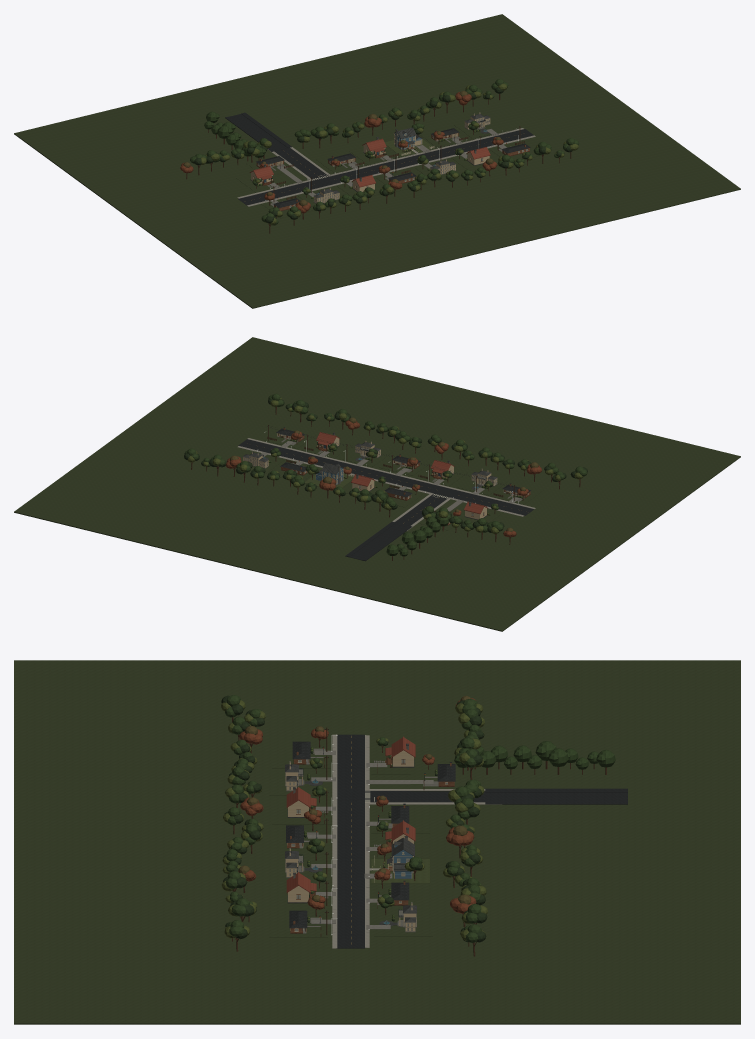
Rendered from westbridge.glb.
3 renders of one model, top to bottom at view 1: azimuth 30°, elevation 25°; view 2: azimuth 150°, elevation 25°; view 3: azimuth 270°, elevation 25°, orthographic. The views are drawn at different scales.
Parts seen in each view (by area): view 1: Oak_Crescent · Dry lawn, Oak_Crescent · Aggregate asphalt, Tree_Line · Garden foliage 0, South_Lots · Dry lawn, Tree_Line · Garden foliage 1, Tree_Line · Garden foliage 2, North_Lots · Dry lawn, Oak_Crescent · Worn concrete, Tree_Line · props.001, Tree_Line · Garden foliage 3, North_Lots · Cream.001, Tree_Line · Weathered cedar; view 2: Oak_Crescent · Dry lawn, Oak_Crescent · Aggregate asphalt, Tree_Line · Garden foliage 0, North_Lots · Dry lawn, Tree_Line · Garden foliage 1, Tree_Line · Garden foliage 2, Oak_Crescent · Worn concrete, South_Lots · Dry lawn, Tree_Line · props.001, Tree_Line · Garden foliage 3, Tree_Line · Weathered cedar, North_Lots · Cream.001 (+1 smaller); view 3: Oak_Crescent · Dry lawn, Oak_Crescent · Aggregate asphalt, North_Lots · Dry lawn, Tree_Line · Garden foliage 0, South_Lots · Dry lawn, Tree_Line · Garden foliage 1, Tree_Line · Garden foliage 2, Oak_Crescent · Worn concrete, Tree_Line · props.001, Tree_Line · Garden foliage 3, South_Lots · RoofShingle.001, North_Lots · RoofShingle.001 (+8 smaller).
Boxes of the visible parts, x1,y1,x2,y2 form: Oak_Crescent · Dry lawn: (14, 14, 740, 308); Oak_Crescent · Aggregate asphalt: (225, 112, 533, 205); Tree_Line · Garden foliage 0: (190, 79, 578, 225); South_Lots · Dry lawn: (236, 119, 505, 192); Tree_Line · Garden foliage 1: (194, 83, 578, 224); Tree_Line · Garden foliage 2: (194, 87, 572, 223); North_Lots · Dry lawn: (261, 141, 541, 218); Oak_Crescent · Worn concrete: (237, 128, 535, 206); Tree_Line · props.001: (204, 111, 265, 161); Tree_Line · Garden foliage 3: (180, 92, 497, 213); North_Lots · Cream.001: (276, 149, 527, 207); Tree_Line · Weathered cedar: (186, 94, 571, 233); Oak_Crescent · Dry lawn: (14, 337, 740, 631); Oak_Crescent · Aggregate asphalt: (238, 439, 533, 561); Tree_Line · Garden foliage 0: (184, 393, 587, 532); North_Lots · Dry lawn: (264, 426, 542, 504); Tree_Line · Garden foliage 1: (187, 397, 583, 533); Tree_Line · Garden foliage 2: (184, 399, 587, 532); Oak_Crescent · Worn concrete: (237, 438, 535, 530); South_Lots · Dry lawn: (241, 452, 502, 530); Tree_Line · props.001: (386, 511, 449, 560); Tree_Line · Garden foliage 3: (226, 420, 541, 536); Tree_Line · Weathered cedar: (191, 406, 580, 544); North_Lots · Cream.001: (277, 433, 528, 497); Oak_Crescent · Dry lawn: (14, 660, 740, 1024); Oak_Crescent · Aggregate asphalt: (337, 734, 627, 948); North_Lots · Dry lawn: (266, 744, 330, 937); Tree_Line · Garden foliage 0: (225, 695, 481, 942); South_Lots · Dry lawn: (371, 749, 469, 936); Tree_Line · Garden foliage 1: (221, 700, 487, 940); Tree_Line · Garden foliage 2: (221, 695, 487, 942); Oak_Crescent · Worn concrete: (332, 734, 501, 948); Tree_Line · props.001: (454, 741, 615, 774); Tree_Line · Garden foliage 3: (238, 698, 476, 913); South_Lots · RoofShingle.001: (391, 762, 455, 900); North_Lots · RoofShingle.001: (286, 741, 310, 928).
Size of the model in its own units: 260 by 11.54 by 220.
51 materials, 50 textured.
